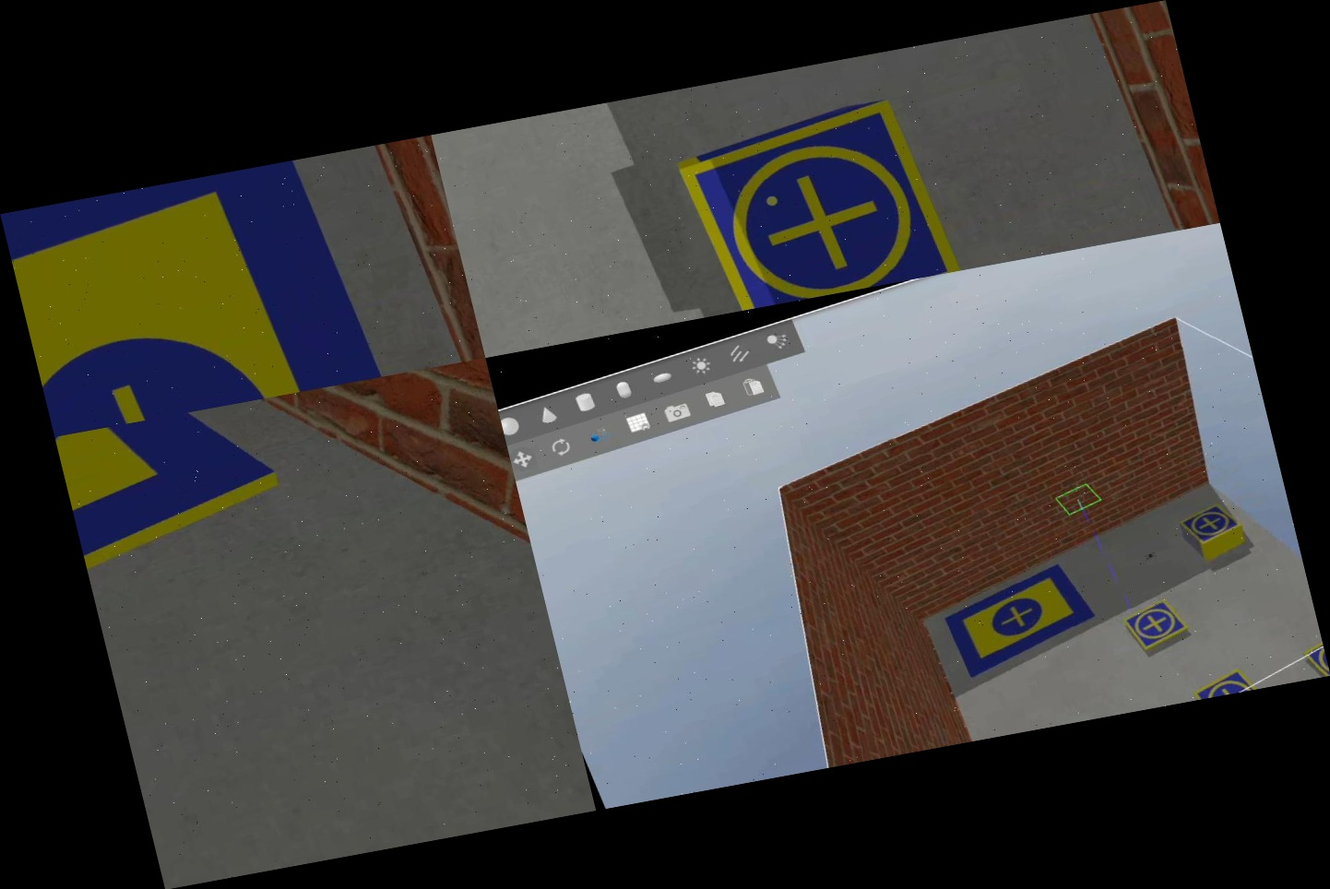large_base: (0, 150, 400, 437), (54, 397, 327, 649), (935, 556, 1108, 680)
small_base: (671, 95, 959, 315), (1118, 593, 1197, 658), (1176, 498, 1251, 550), (1190, 663, 1270, 699)
